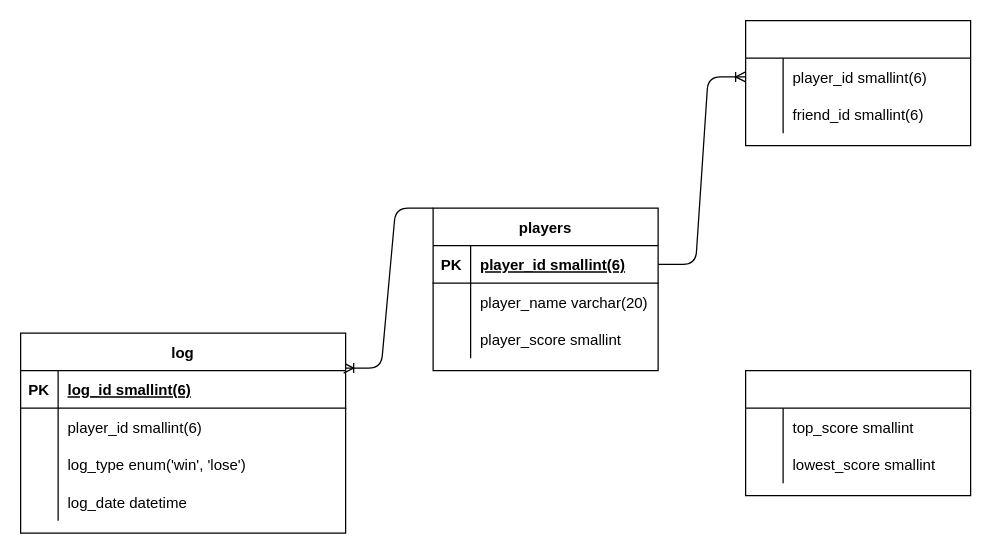
This 991x554 diagram has some shape labels left out. Here are the shapes that lost their labels. From the top down, the box of each, then its label:
(744, 19, 971, 146): friends
(744, 369, 971, 496): game_data
